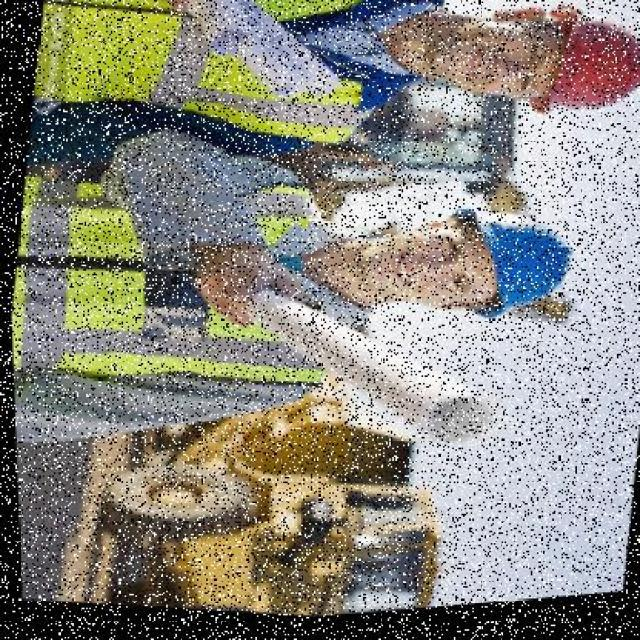helmet: (428, 198, 580, 344), (526, 3, 638, 146)
vest: (5, 142, 377, 428), (44, 0, 442, 183)
